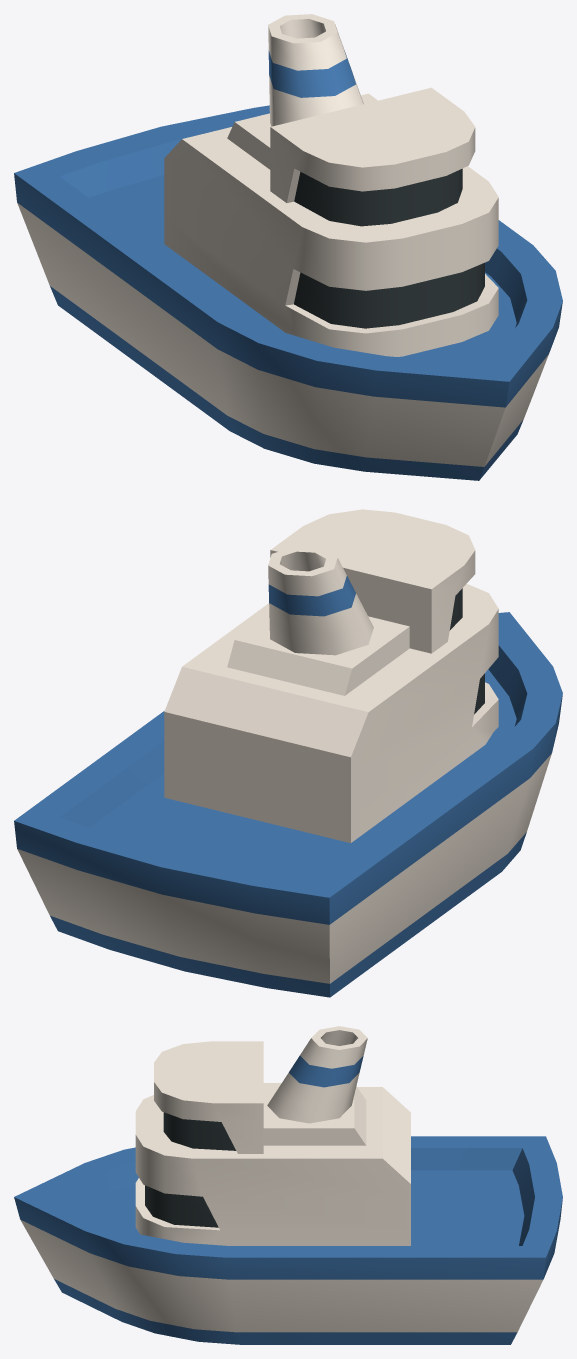
File: Boat_01.fbx
3 renders of one model, top to bottom at view 1: azimuth 30°, elevation 25°; view 2: azimuth 150°, elevation 25°; view 3: azimuth 270°, elevation 25°, orthographic. The views are drawn at different scales.
Parts seen in each view (by area): view 1: Boat_01; view 2: Boat_01; view 3: Boat_01.
Boxes of the visible parts, x1=… form: Boat_01: x1=14, y1=14, x2=562, y2=480; Boat_01: x1=14, y1=509, x2=562, y2=997; Boat_01: x1=14, y1=1026, x2=562, y2=1344.
Size of the model in its own units: 0.2239 by 0.2191 by 0.4285.
